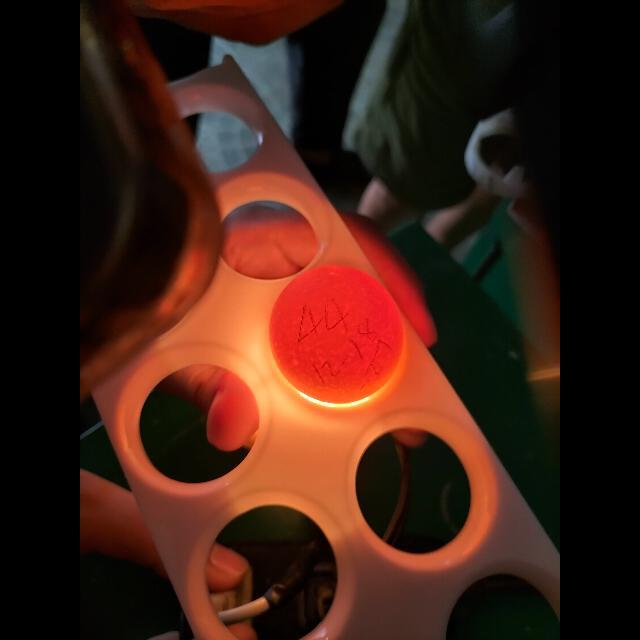Infertile: (268, 266, 404, 406)
